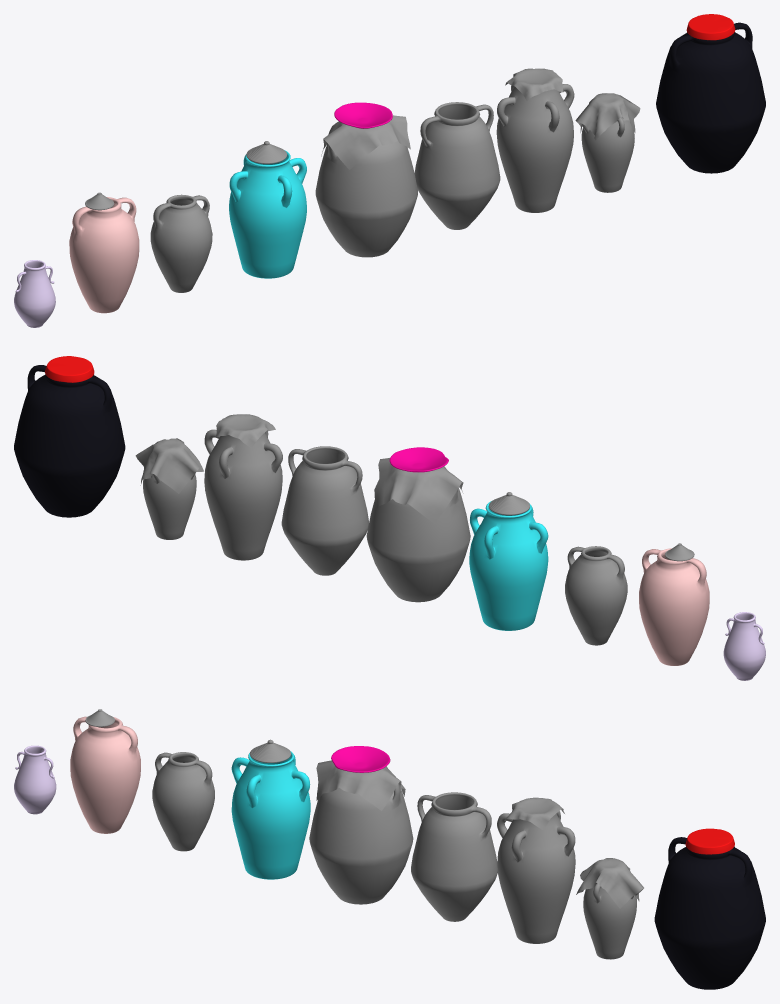
Rendered from Jars.fbx.
The picture shows the model from 3 angles, top to bottom: view 1: azimuth 30°, elevation 25°; view 2: azimuth 150°, elevation 25°; view 3: azimuth 330°, elevation 25°; orthographic projection.
Parts seen in each view (by area): view 1: SM_Amphore02, SM_Amphore01, SM_AmphoreAnseT02, SM_Amphore_01_F, SM_AmphoreAnseT03, SM_Amphore05, SM_Amphore04, SM_AmphoreAnseT01, SM_Jar, SM_Couvercle_Broken, SM_CouvercleT01, SM_Couvercle_Rotin; view 2: SM_Amphore02, SM_Amphore01, SM_AmphoreAnseT02, SM_Amphore_01_F, SM_AmphoreAnseT03, SM_Amphore05, SM_Amphore04, SM_AmphoreAnseT01, SM_Jar, SM_Couvercle_Broken, SM_CouvercleT01, SM_Couvercle_Rotin; view 3: SM_Amphore02, SM_Amphore01, SM_AmphoreAnseT02, SM_Amphore_01_F, SM_AmphoreAnseT03, SM_Amphore05, SM_Amphore04, SM_AmphoreAnseT01, SM_Jar, SM_Couvercle_Broken, SM_CouvercleT01, SM_Couvercle_Rotin.
Part boxes in pixels (x1=…): SM_Amphore02: x1=656, y1=22, x2=765, y2=173; SM_Amphore01: x1=315, y1=115, x2=417, y2=257; SM_AmphoreAnseT02: x1=496, y1=68, x2=574, y2=212; SM_Amphore_01_F: x1=414, y1=102, x2=500, y2=229; SM_AmphoreAnseT03: x1=229, y1=150, x2=306, y2=278; SM_Amphore05: x1=69, y1=197, x2=139, y2=313; SM_Amphore04: x1=150, y1=194, x2=212, y2=292; SM_AmphoreAnseT01: x1=575, y1=93, x2=640, y2=192; SM_Jar: x1=14, y1=260, x2=55, y2=327; SM_Couvercle_Broken: x1=334, y1=102, x2=392, y2=128; SM_CouvercleT01: x1=686, y1=14, x2=735, y2=40; SM_Couvercle_Rotin: x1=246, y1=141, x2=287, y2=163; SM_Amphore02: x1=14, y1=365, x2=125, y2=517; SM_Amphore01: x1=366, y1=458, x2=470, y2=602; SM_AmphoreAnseT02: x1=204, y1=414, x2=282, y2=560; SM_Amphore_01_F: x1=281, y1=446, x2=368, y2=575; SM_AmphoreAnseT03: x1=469, y1=501, x2=548, y2=630; SM_Amphore05: x1=639, y1=548, x2=709, y2=665; SM_Amphore04: x1=565, y1=546, x2=627, y2=645; SM_AmphoreAnseT01: x1=135, y1=438, x2=203, y2=539; SM_Jar: x1=723, y1=612, x2=765, y2=680; SM_Couvercle_Broken: x1=389, y1=447, x2=448, y2=472; SM_CouvercleT01: x1=45, y1=356, x2=94, y2=382; SM_Couvercle_Rotin: x1=488, y1=492, x2=529, y2=515; SM_Amphore02: x1=654, y1=837, x2=765, y2=989; SM_Amphore01: x1=309, y1=760, x2=413, y2=904; SM_AmphoreAnseT02: x1=497, y1=797, x2=575, y2=943; SM_Amphore_01_F: x1=411, y1=792, x2=497, y2=921; SM_AmphoreAnseT03: x1=231, y1=751, x2=310, y2=879; SM_Amphore05: x1=70, y1=716, x2=140, y2=833; SM_Amphore04: x1=152, y1=752, x2=214, y2=851; SM_AmphoreAnseT01: x1=576, y1=858, x2=643, y2=959; SM_Jar: x1=14, y1=745, x2=56, y2=814; SM_Couvercle_Broken: x1=331, y1=746, x2=390, y2=772; SM_CouvercleT01: x1=685, y1=828, x2=734, y2=854; SM_Couvercle_Rotin: x1=250, y1=739, x2=291, y2=762.
Bounding box in the file's own units: 709 × 130 × 91.14.
